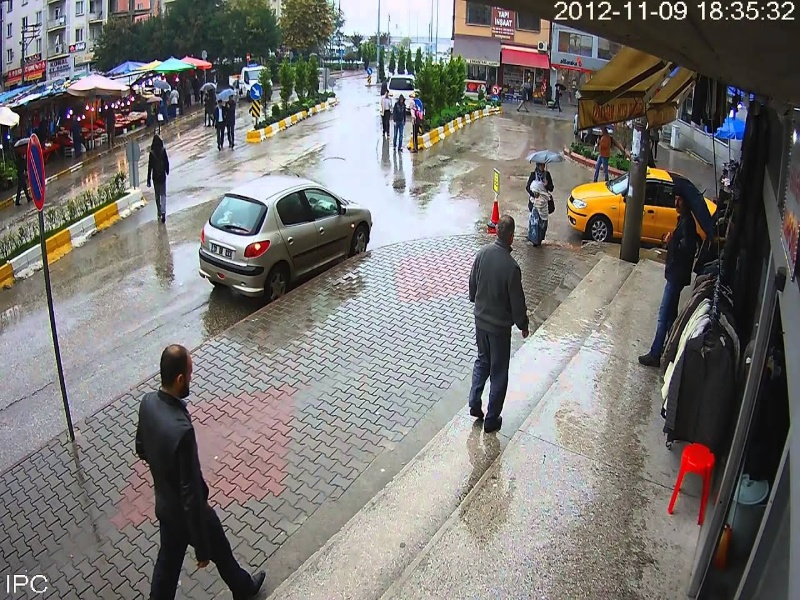person: (129, 338, 272, 600), (448, 211, 540, 437), (635, 180, 701, 371), (519, 149, 565, 252), (142, 131, 174, 224), (590, 119, 617, 190), (208, 97, 231, 152), (390, 91, 407, 154), (221, 97, 240, 150), (377, 88, 396, 139)
